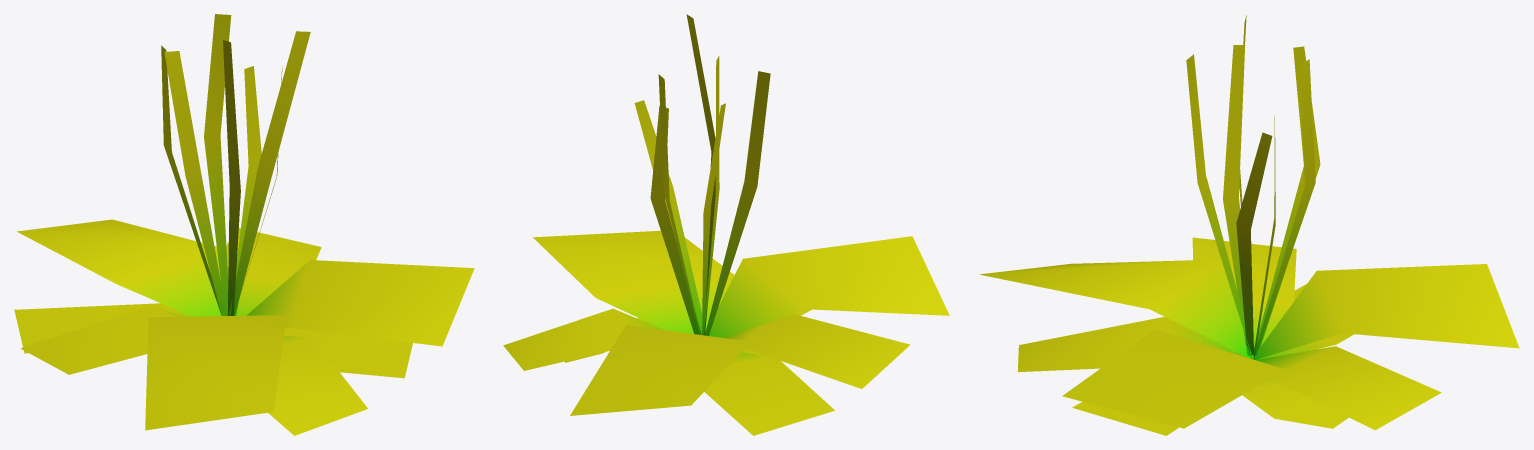
Rendered from Broadleaf Plantain_LOD3_Var1_sfhjc.fbx.
3 renders of one model, left to right at view 1: azimuth 30°, elevation 25°; view 2: azimuth 150°, elevation 25°; view 3: azimuth 270°, elevation 25°, orthographic. The views are drawn at different scales.
Parts seen in each view (by area): view 1: _5194_Var1_LOD3; view 2: _5194_Var1_LOD3; view 3: _5194_Var1_LOD3.
Part boxes in pixels (left/top/right/bottom): _5194_Var1_LOD3: left=14, top=14, right=474, bottom=435; _5194_Var1_LOD3: left=503, top=14, right=949, bottom=435; _5194_Var1_LOD3: left=979, top=15, right=1519, bottom=435.
Bounding box in the file's own units: 38.7 × 29.66 × 43.5.
